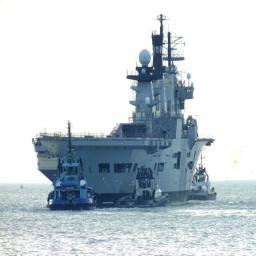Portanaves: (32, 5, 217, 209)
